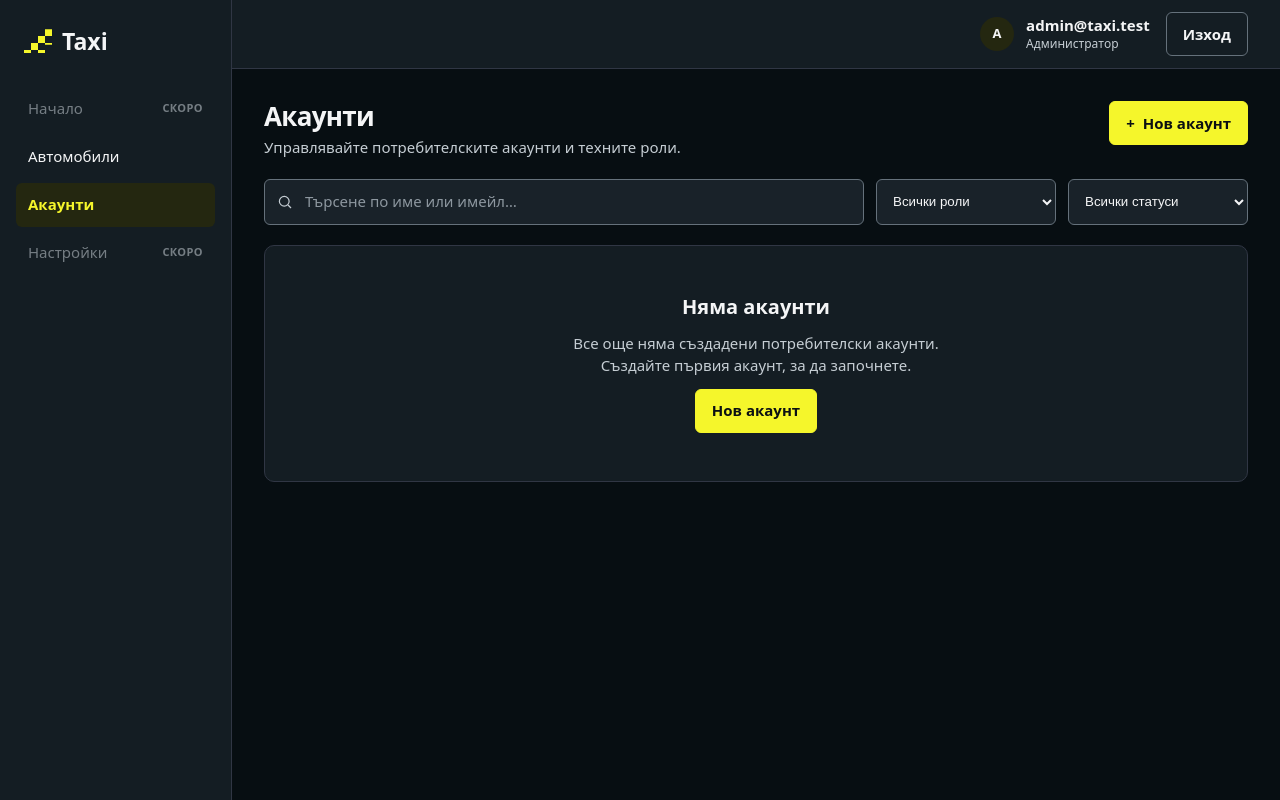
Scenario: AccountsPage (mocked account port, not live integration) › shows the empty state and opens the create dialog from it
Expected: the heading "Няма акаунти" is shown, [682, 294, 830, 320]
Click the button "Нов акаунт" at (756, 411), box [695, 389, 817, 433]
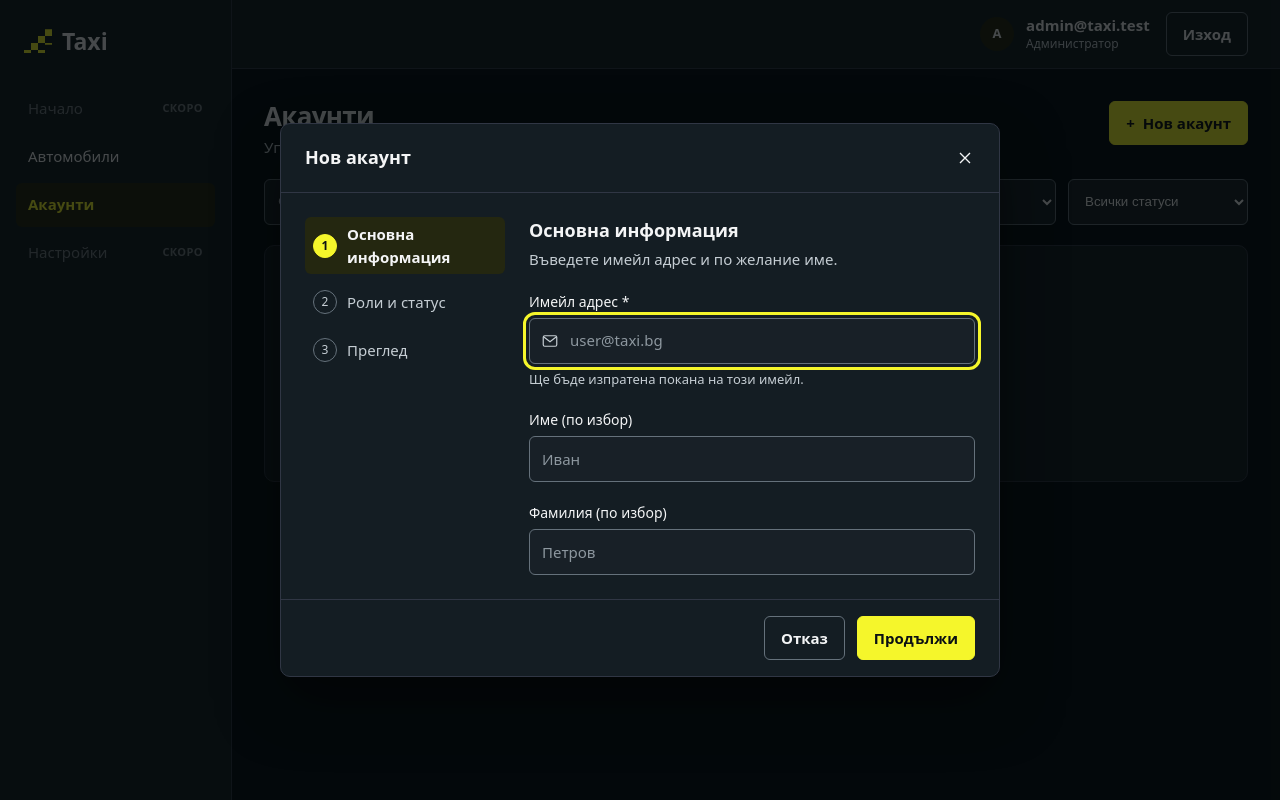
Now the dialog "Нов акаунт" is shown, box [280, 123, 1000, 677]
